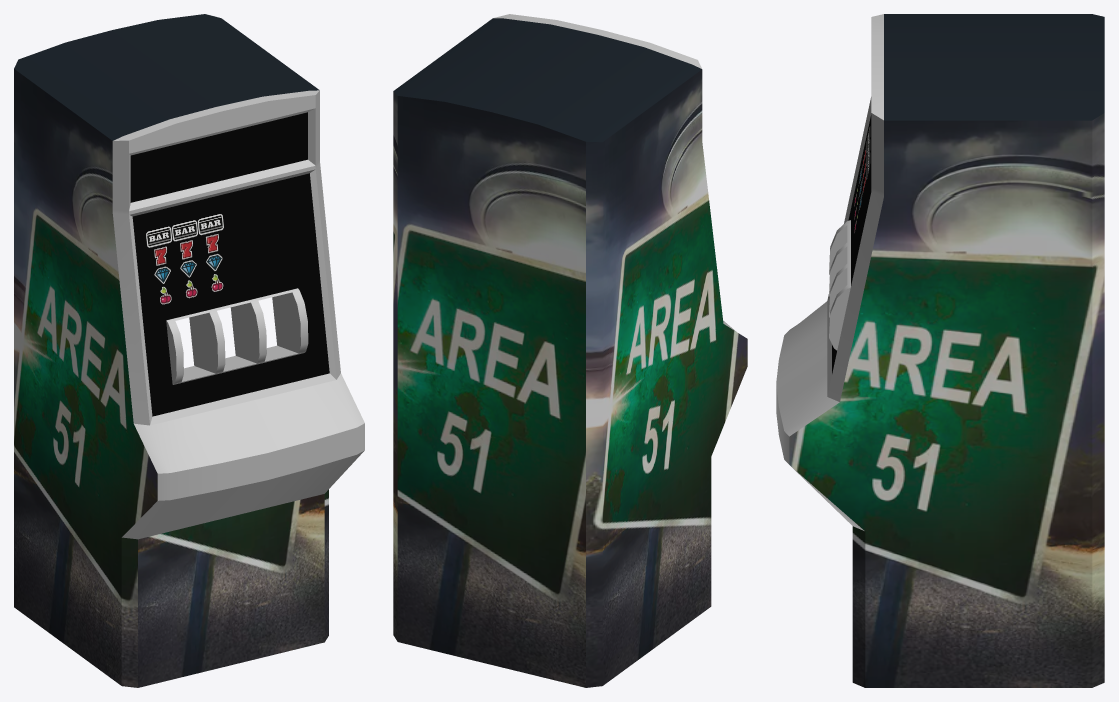
The model's file is slotMachine_2_collider.gltf.
3 renders of one model, left to right at view 1: azimuth 30°, elevation 25°; view 2: azimuth 150°, elevation 25°; view 3: azimuth 270°, elevation 25°, orthographic. The views are drawn at different scales.
Visible parts, largest first — view 1: NewBody.V3; view 2: NewBody.V3; view 3: NewBody.V3.
Part boxes in pixels (<box>): NewBody.V3: <box>14,14,364,687</box>; NewBody.V3: <box>393,14,747,687</box>; NewBody.V3: <box>776,14,1104,687</box>.
Size of what is drawn, in the model's own units: 2 by 5.05 by 2.61.
5 materials, 2 textured.
